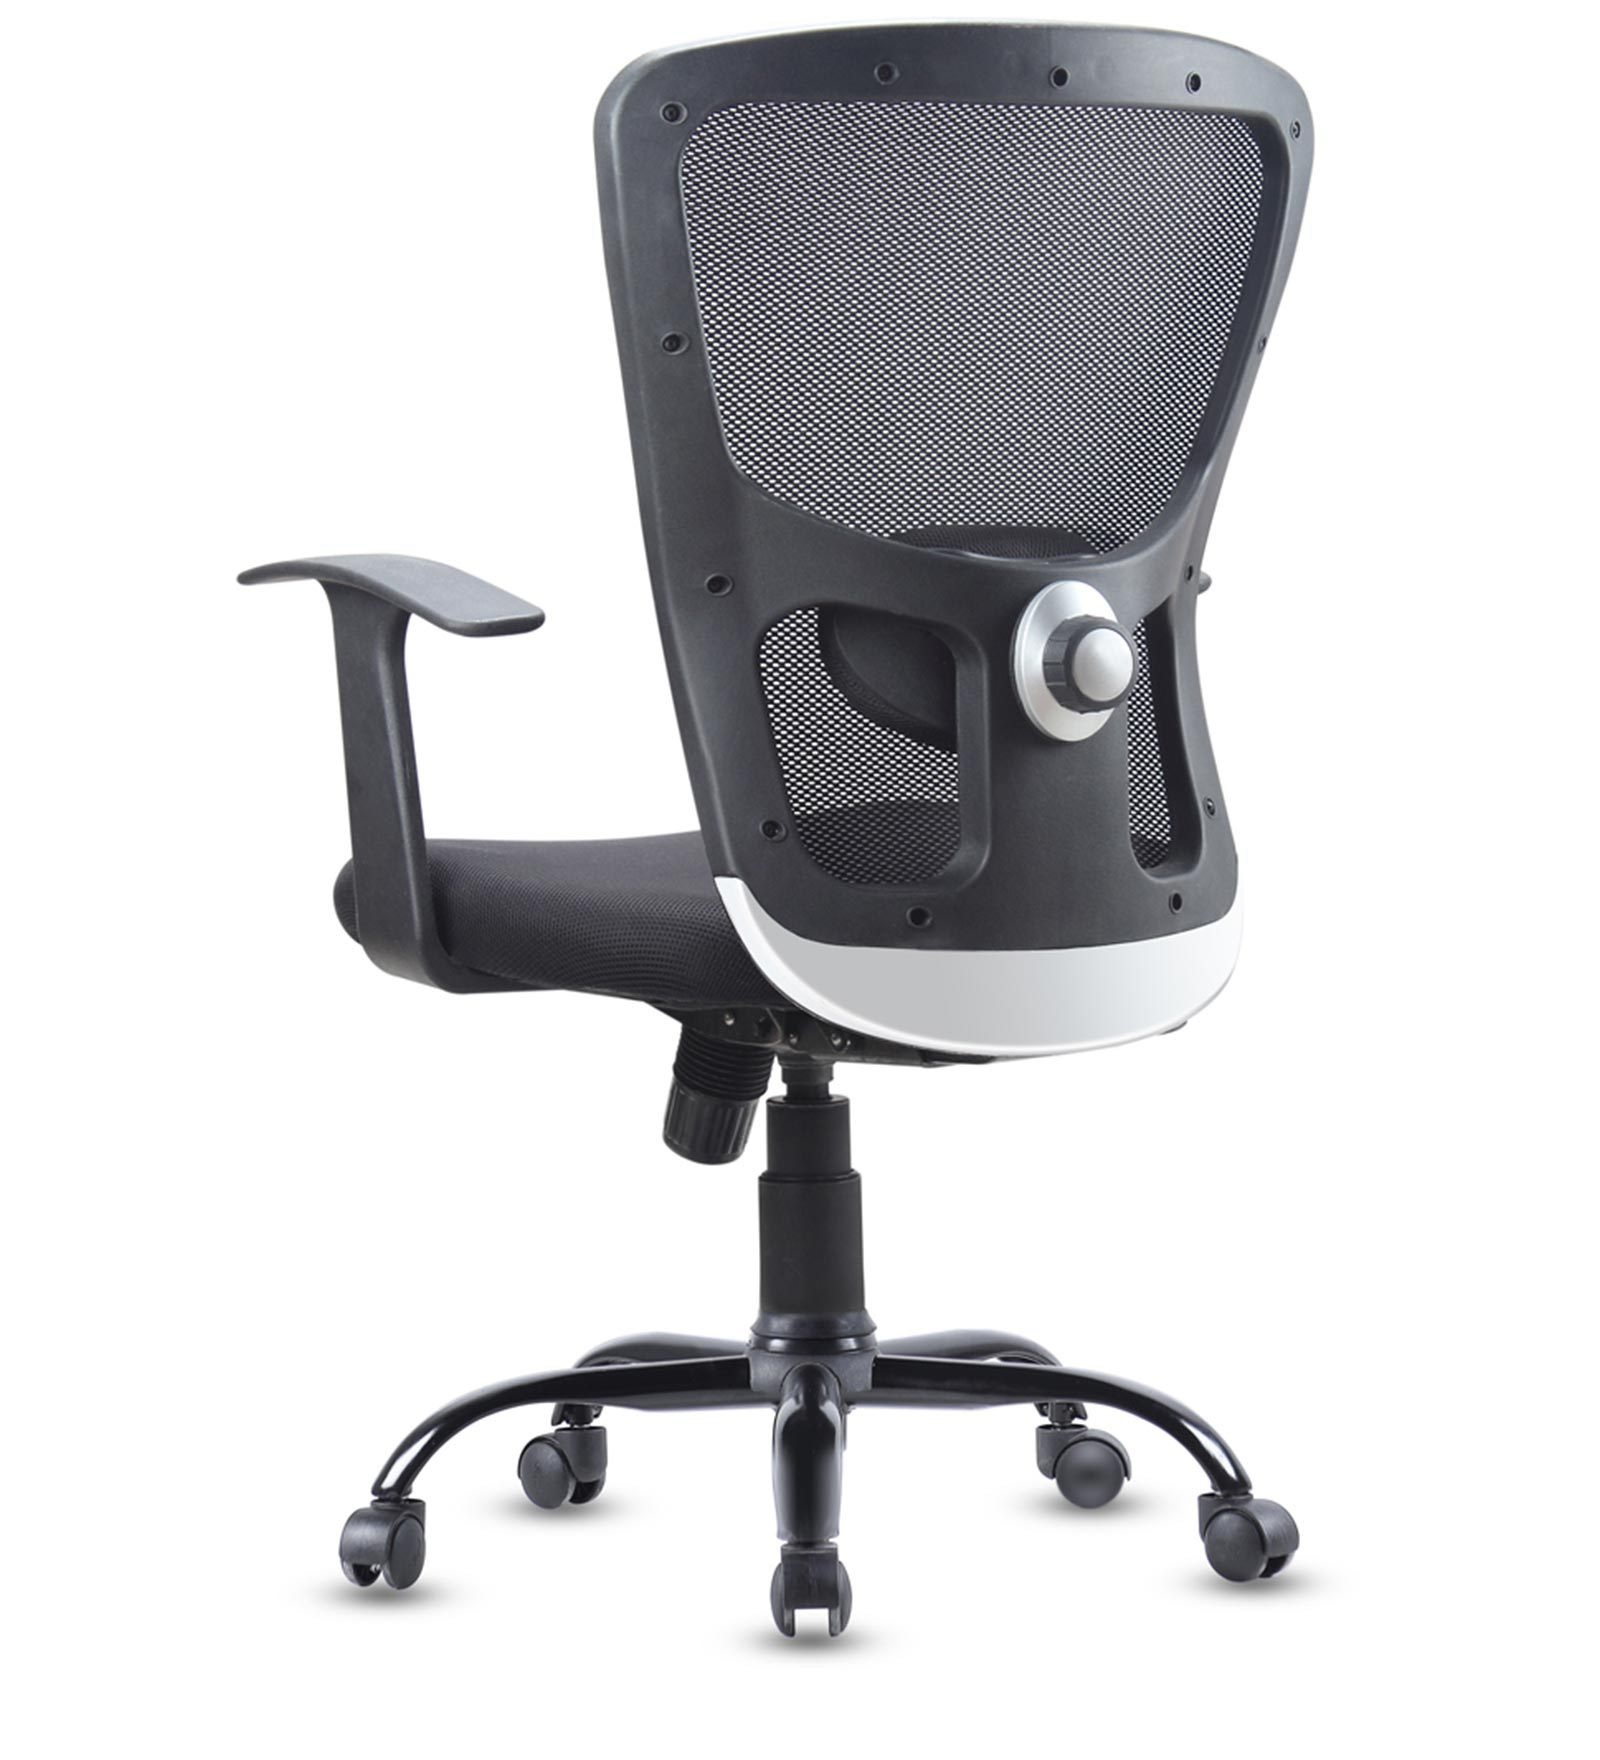Smart Medium back Ergonomic Chairs by VOF: (244, 15, 1369, 1648)
